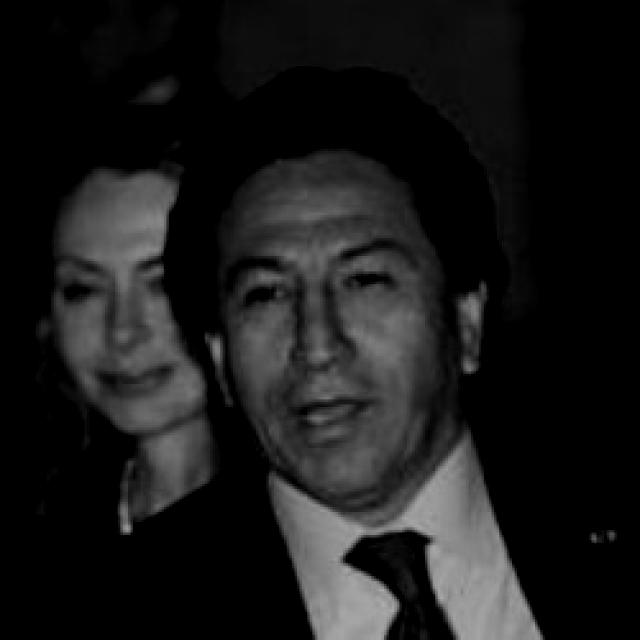real: (212, 90, 515, 504), (52, 110, 216, 433), (226, 264, 444, 315), (57, 263, 167, 312)
